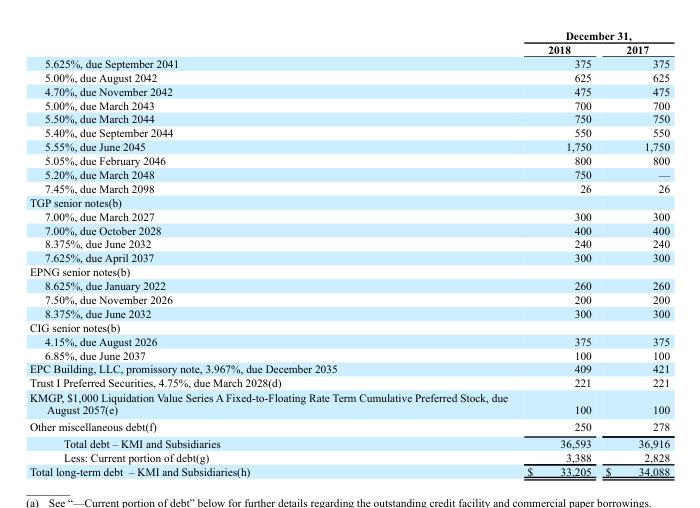table: (28, 28, 669, 477)
table column: (28, 28, 516, 477), (516, 28, 597, 477), (597, 28, 669, 477)
table column header: (28, 28, 669, 56)
table projected row header: (28, 264, 669, 278), (28, 195, 669, 208), (28, 320, 669, 333)
table row: (28, 390, 669, 417), (28, 417, 669, 434), (28, 434, 669, 450), (28, 375, 669, 390), (28, 28, 669, 42), (28, 42, 669, 56), (28, 56, 669, 70), (28, 83, 669, 97), (28, 97, 669, 111), (28, 111, 669, 125), (28, 125, 669, 139), (28, 139, 669, 153), (28, 153, 669, 167), (28, 167, 669, 181), (28, 181, 669, 195), (28, 208, 669, 222), (28, 222, 669, 236), (28, 236, 669, 250), (28, 250, 669, 264), (28, 264, 669, 278), (28, 278, 669, 292), (28, 292, 669, 306), (28, 306, 669, 320), (28, 333, 669, 347), (28, 347, 669, 361), (28, 361, 669, 375), (28, 463, 669, 477), (28, 70, 669, 83), (28, 195, 669, 208), (28, 320, 669, 333), (28, 450, 669, 463)
table spanning cell: (516, 28, 669, 42)
